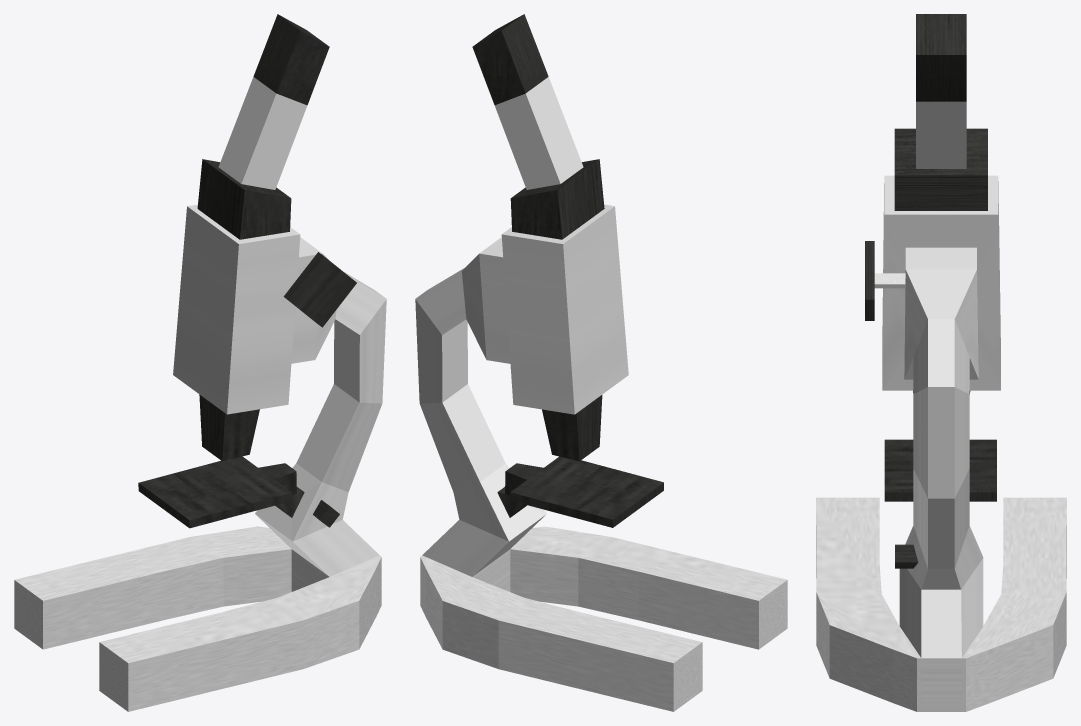
The model's file is Microscope.fbx.
The picture shows the model from 3 angles, left to right: view 1: azimuth 30°, elevation 25°; view 2: azimuth 150°, elevation 25°; view 3: azimuth 270°, elevation 25°; orthographic projection. The views are drawn at different scales.
Visible parts, largest first — view 1: Microscope; view 2: Microscope; view 3: Microscope.
Boxes of the visible parts, left/top/right/bottom form: Microscope: left=14, top=14, right=386, bottom=711; Microscope: left=415, top=14, right=787, bottom=711; Microscope: left=816, top=14, right=1066, bottom=711.
Bounding box in the file's own units: 547 × 1005 × 349.
Materials: 2 (2 with a texture image).
